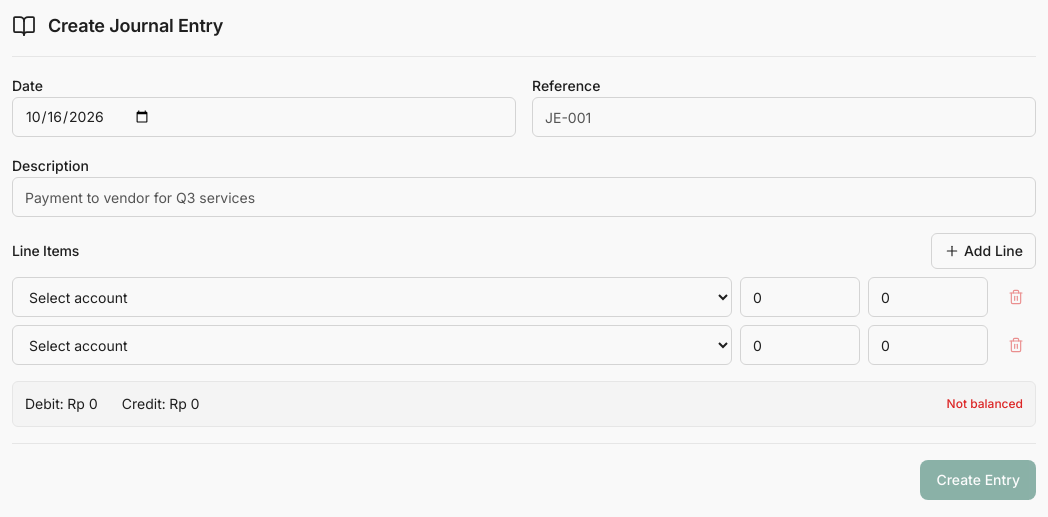
JEDrawer › shows Not balanced and disables submit until debits equal credits
Expected: the text "Not balanced" is shown, [947,396,1023,412]
Expected: the button "Create Entry" is disabled, [920,460,1036,500]
Note: Fill line 0: debit 100, line 1: credit 100 → balanced
Replace the text in the 1st number field with placeholder "Debit" with "100" at x=800, y=297, box [740,277,860,317]
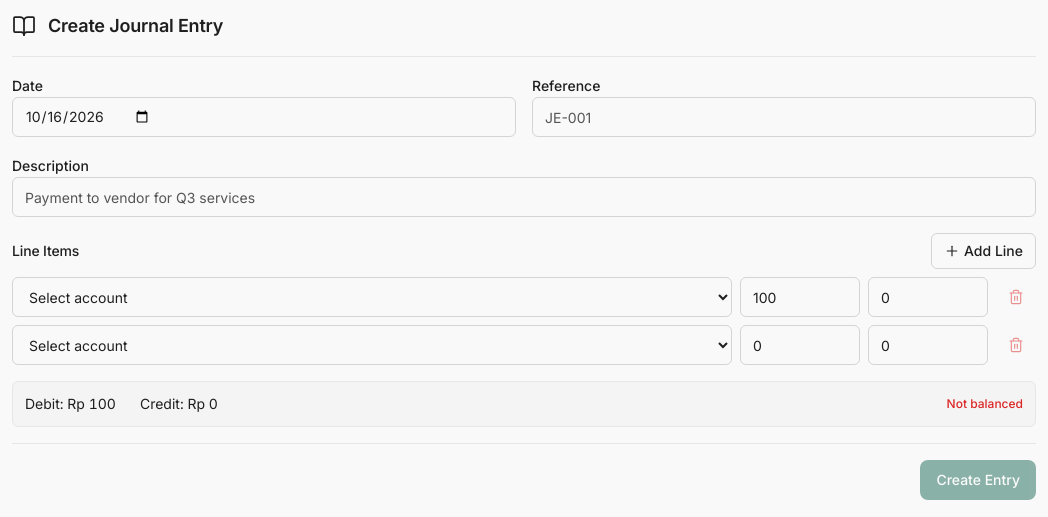
Replace the text in the 4th number field with placeholder "Credit" with "100" at x=928, y=345, box [868,325,988,365]
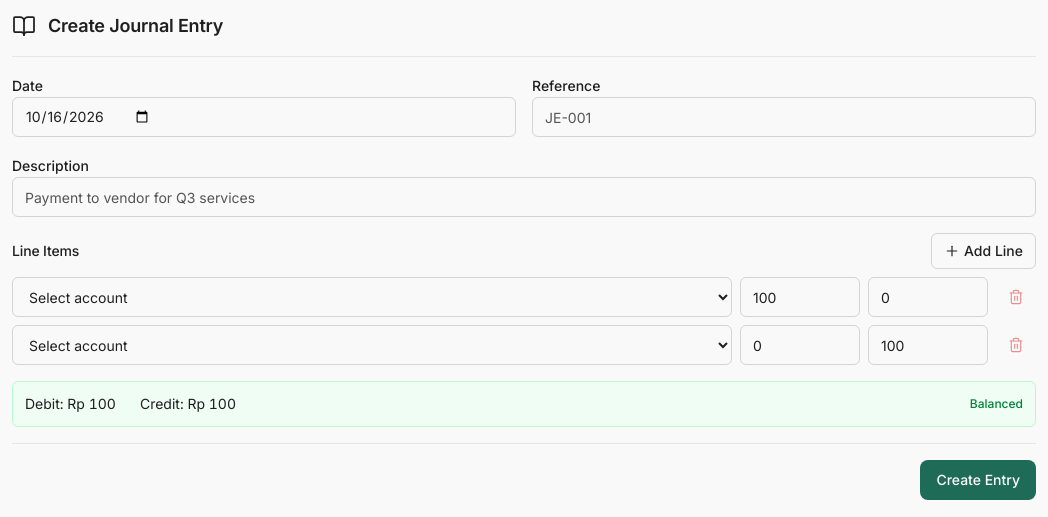
Expected: the text "Balanced" is shown, [970,396,1023,412]
Result: the button "Create Entry" is enabled at [920,460,1036,500]
